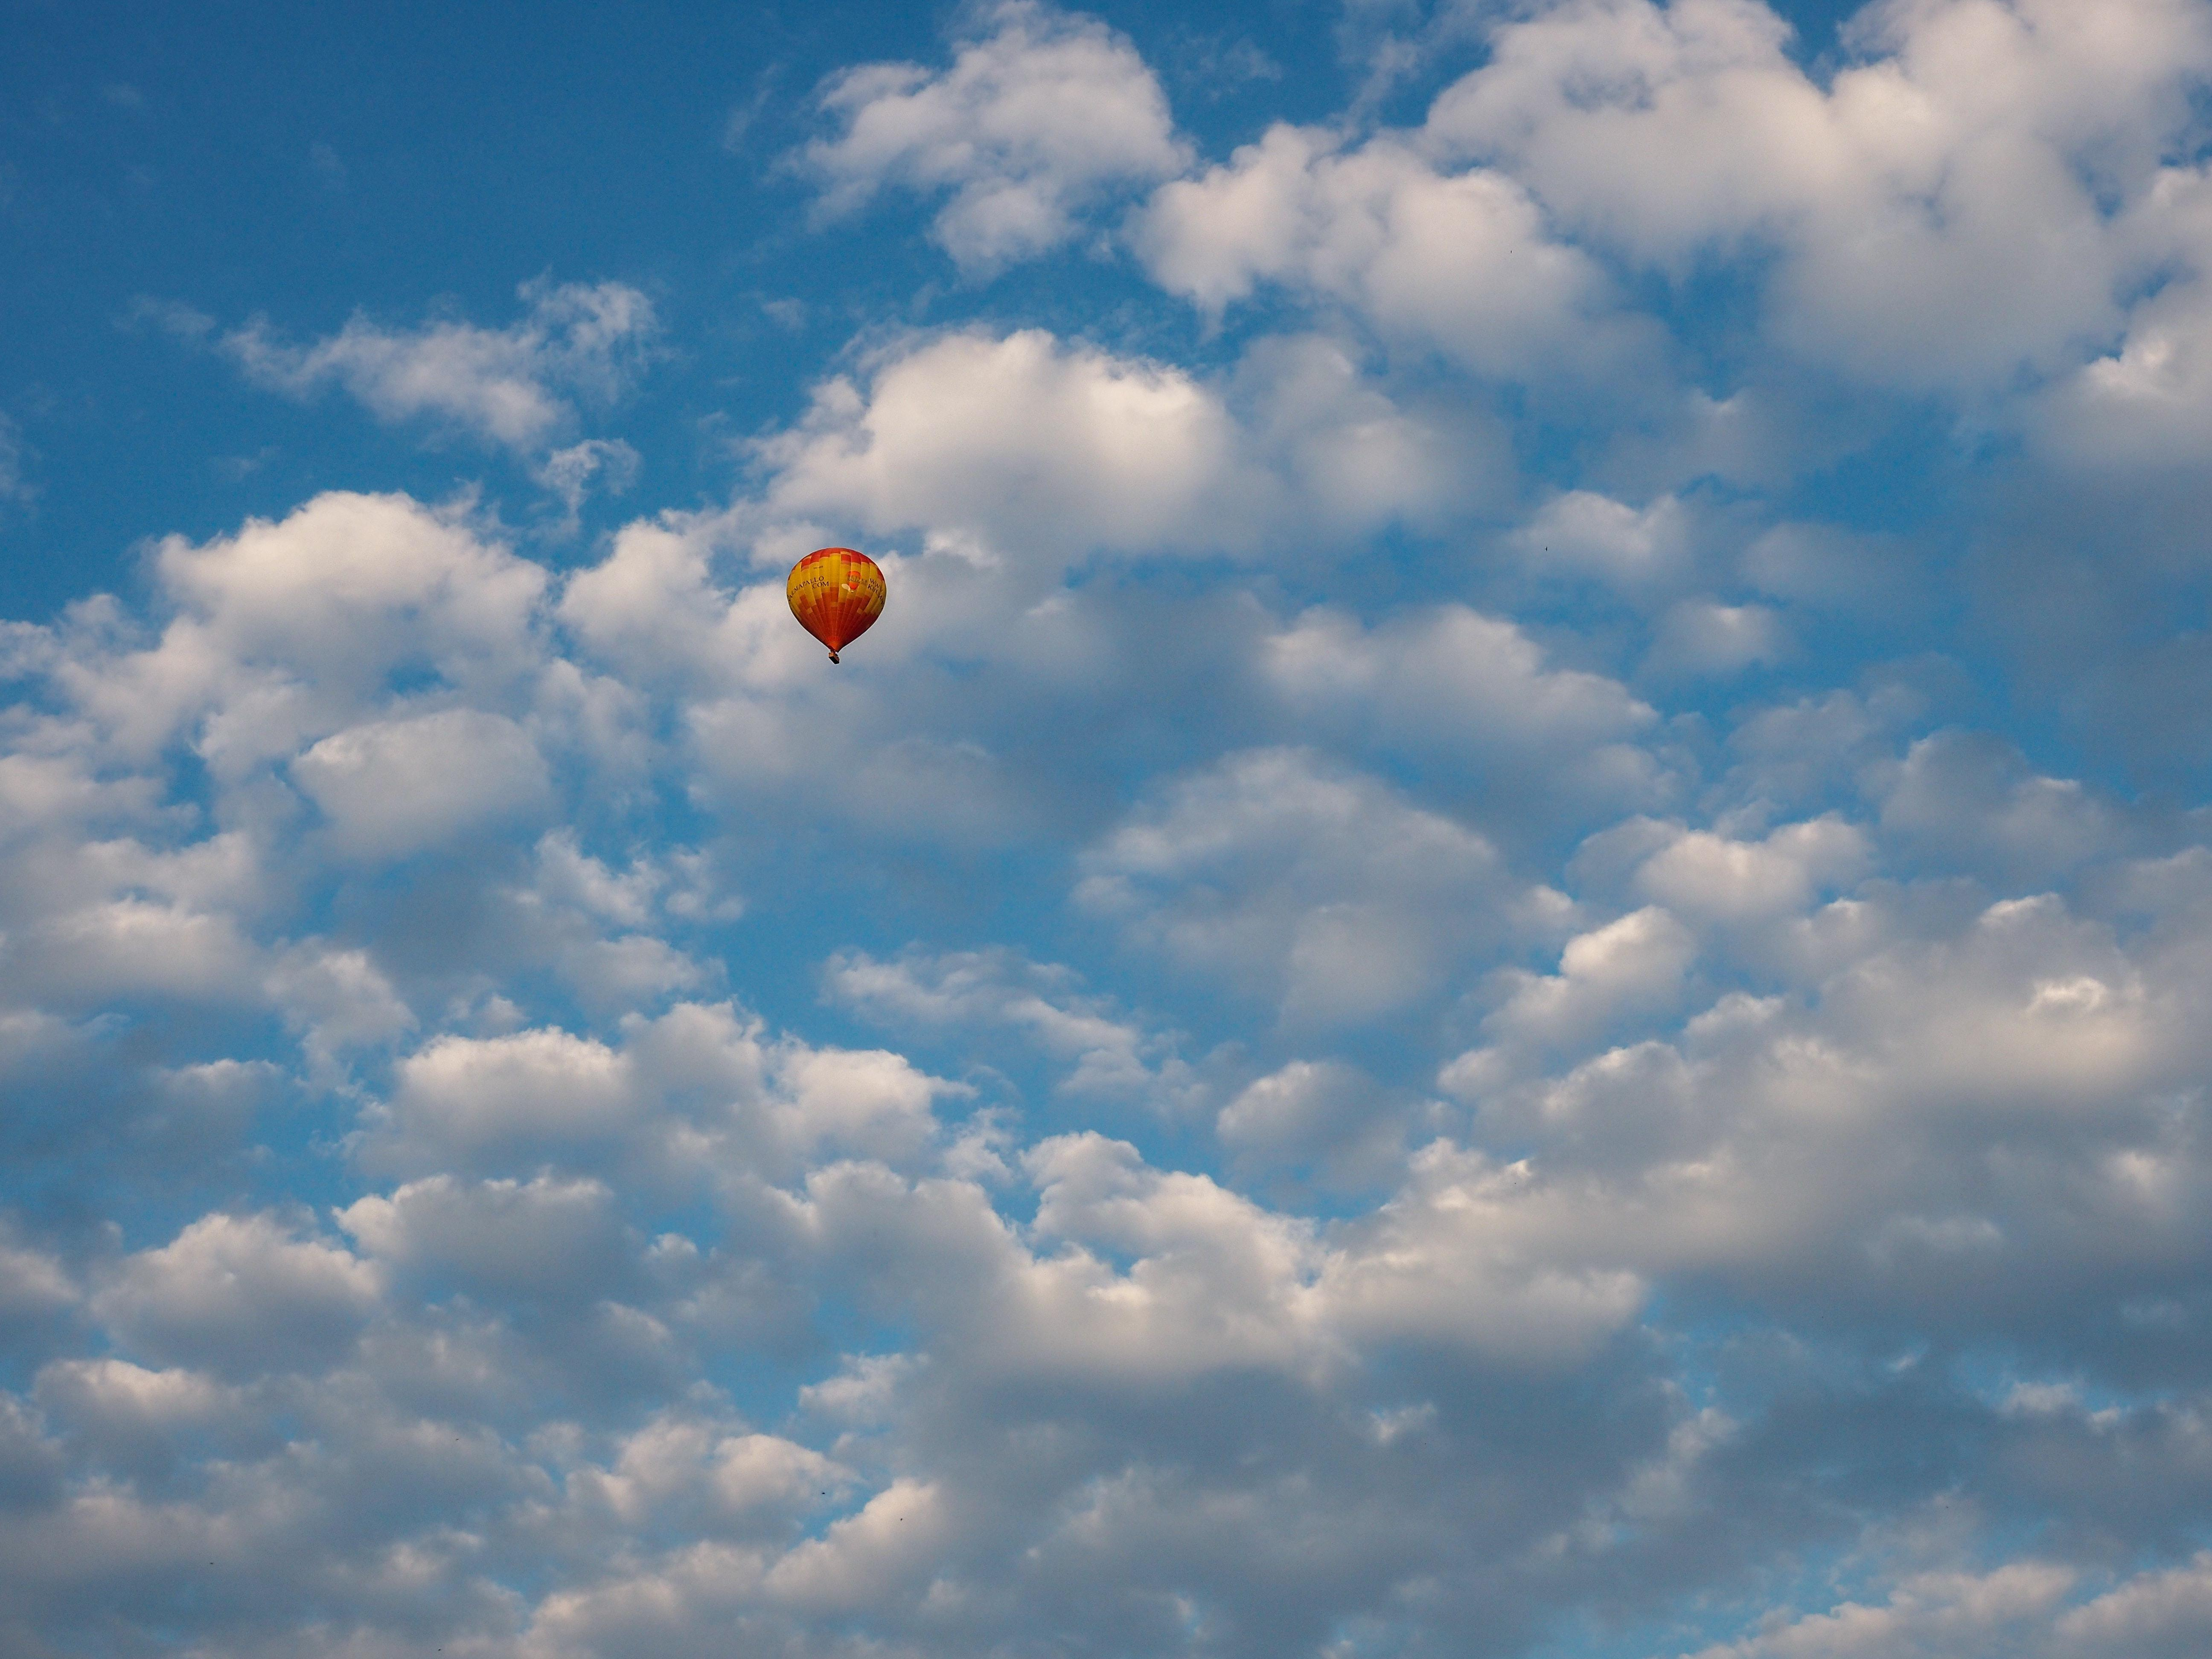hot air ballon: (786, 547, 887, 666)
